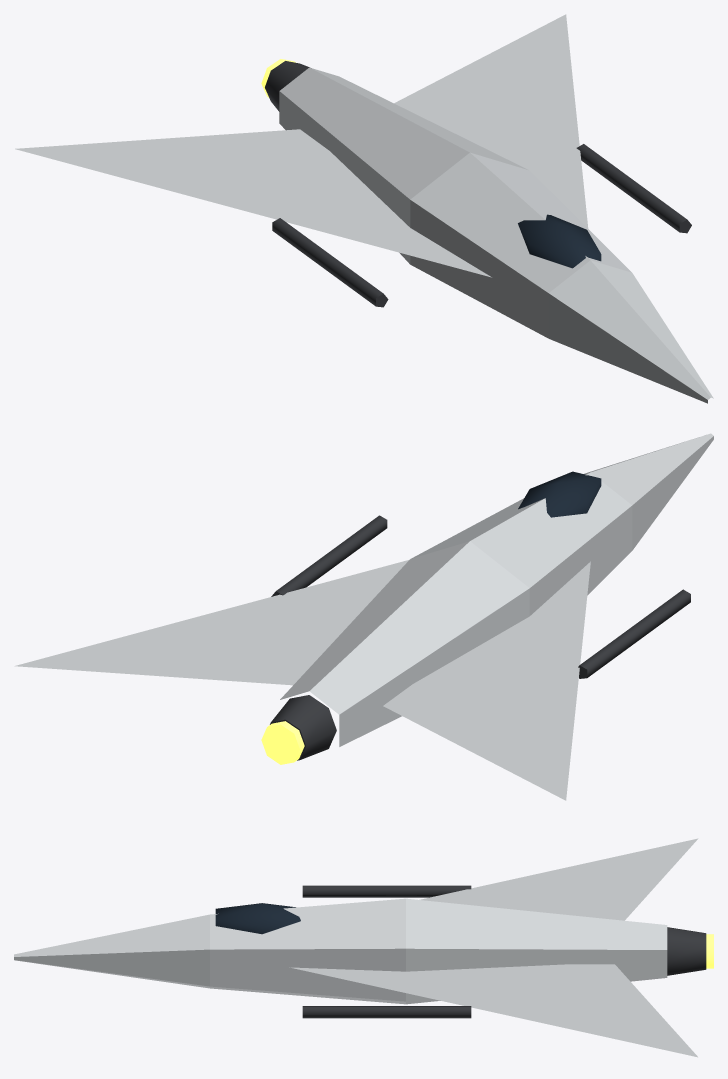
The model's file is space_ship_interceptor_mk2.glb.
The picture shows the model from 3 angles, top to bottom: view 1: azimuth 30°, elevation 25°; view 2: azimuth 150°, elevation 25°; view 3: azimuth 270°, elevation 25°; orthographic projection. The views are drawn at different scales.
Visible parts, largest first — view 1: body, gun_r, gun_l, engine_0; view 2: body, engine_0, gun_r, gun_l; view 3: body, gun_l, gun_r, engine_0.
Boxes of the visible parts, x1,y1,x2,y2 form: body: (15,14,713,403); gun_r: (272,218,388,307); gun_l: (576,144,691,233); engine_0: (261,59,309,111); body: (14,433,713,800); engine_0: (261,695,336,764); gun_r: (578,589,690,678); gun_l: (271,515,387,596); body: (14,838,698,1057); gun_l: (302,1006,471,1018); gun_r: (302,885,471,897); engine_0: (667,927,713,975).
Size of what is drawn, in the model's own units: 8 by 1.8 by 10.8.
